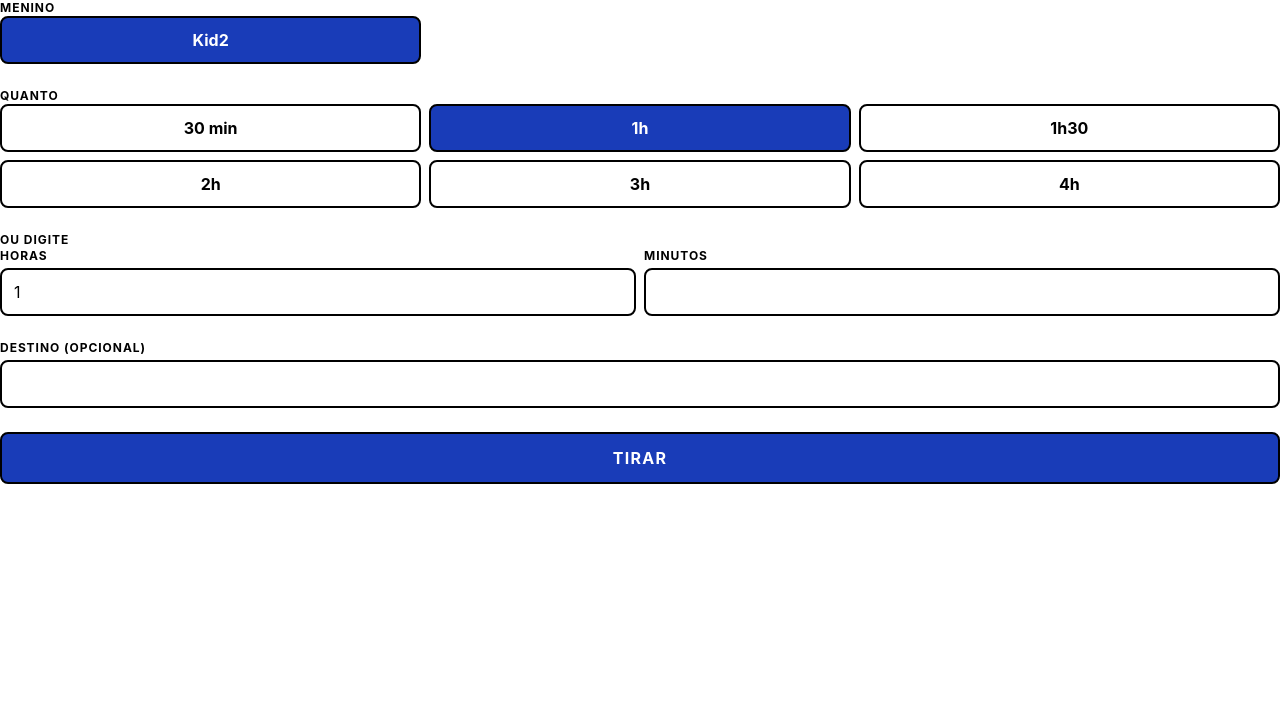
Test: the confirmation (D53) › cancels on Escape and writes nothing
The image size is (1280, 720).
Click the button "Tirar". click: (640, 458)
box: top-left (0, 432), bottom-right (1279, 484)
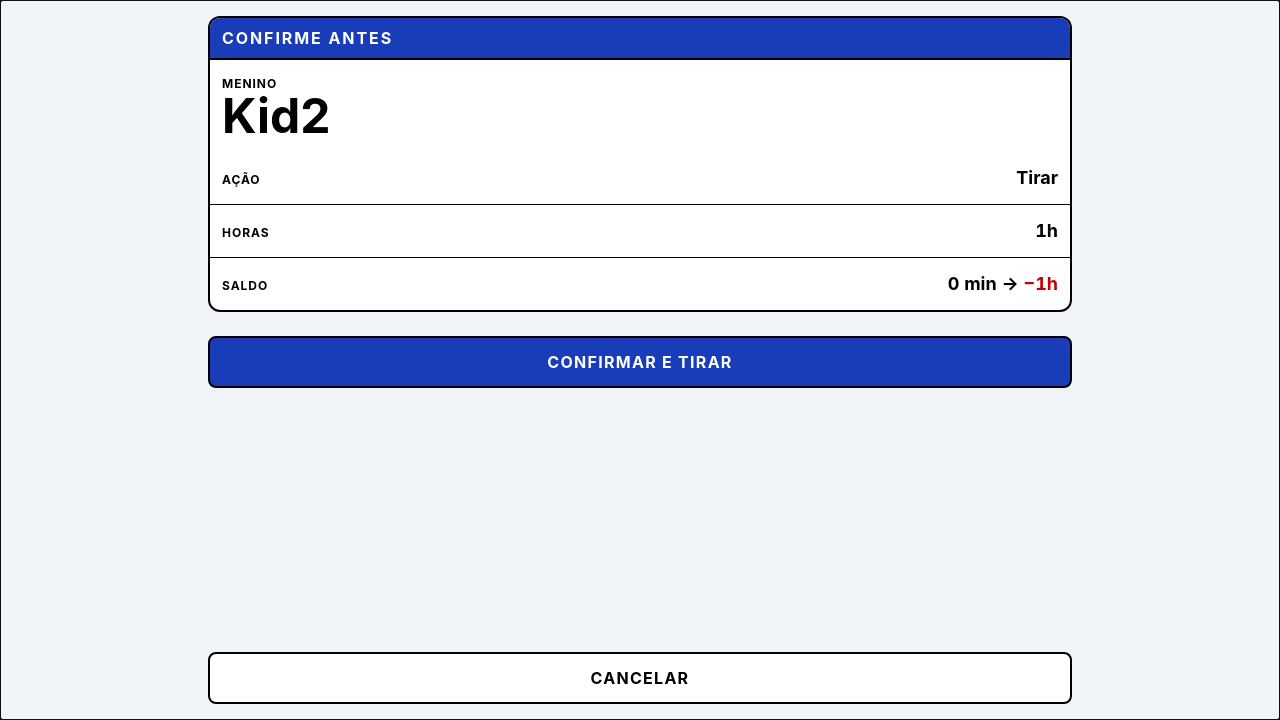
Press Escape in the dialog
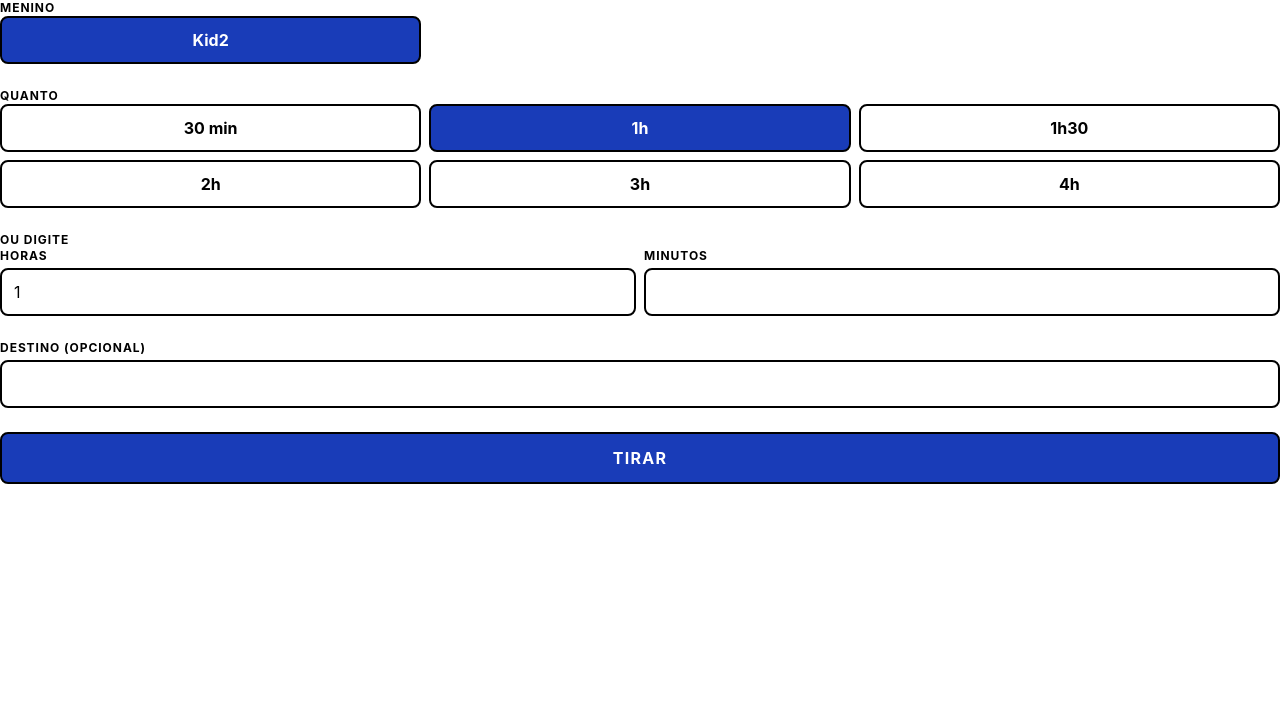
Expected: the dialog is gone
